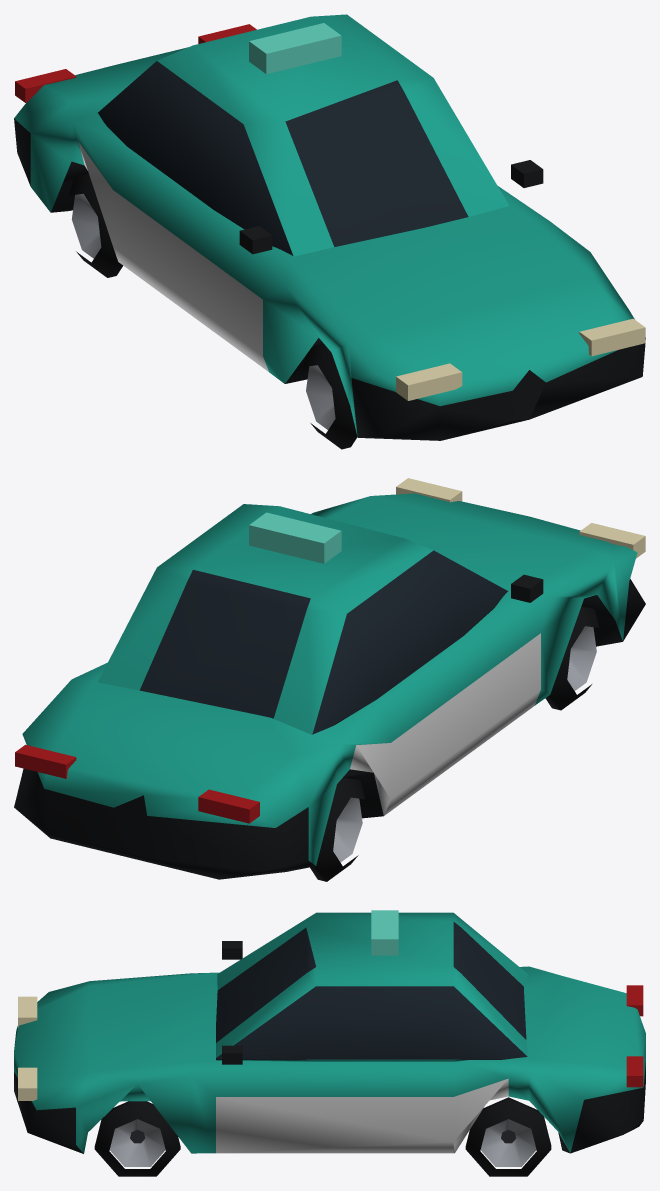
Rendered from mobile-low.glb.
The picture shows the model from 3 angles, top to bottom: view 1: azimuth 30°, elevation 25°; view 2: azimuth 150°, elevation 25°; view 3: azimuth 270°, elevation 25°; orthographic projection. The views are drawn at different scales.
Visible parts, largest first — view 1: body, roof_sign, tyre_fr, light_head_r, light_head_l, tyre_rr, rim_fr, rim_rr, light_brake_r; view 2: body, roof_sign, tyre_rr, tyre_fr, light_brake_r, light_brake_l, rim_fr, rim_rr, light_head_r, light_head_l; view 3: body, tyre_rl, tyre_fl, rim_fl, rim_rl, roof_sign, light_head_l, light_brake_l, light_head_r, light_brake_r.
Boxes of the visible parts, x1,y1,x2,y2 form: body: (14, 14, 645, 440); roof_sign: (249, 23, 341, 74); tyre_fr: (303, 345, 357, 449); light_head_r: (396, 363, 462, 400); light_head_l: (579, 318, 645, 356); tyre_rr: (69, 173, 122, 277); rim_fr: (306, 365, 335, 429); rim_rr: (71, 193, 101, 258); light_brake_r: (15, 69, 76, 102); body: (14, 493, 645, 879); roof_sign: (249, 512, 341, 563); tyre_rr: (310, 777, 365, 881); tyre_fr: (545, 606, 599, 710); light_brake_r: (198, 789, 259, 823); light_brake_l: (15, 744, 76, 778); rim_fr: (567, 626, 596, 690); rim_rr: (333, 797, 362, 862); light_head_r: (579, 523, 645, 558); light_head_l: (396, 478, 462, 502); body: (14, 912, 645, 1153); tyre_rl: (465, 1097, 551, 1176); tyre_fl: (94, 1101, 180, 1176); rim_fl: (109, 1119, 165, 1166); rim_rl: (480, 1119, 536, 1166); roof_sign: (371, 910, 398, 955); light_head_l: (18, 1067, 37, 1100); light_brake_l: (626, 1056, 643, 1087); light_head_r: (18, 996, 37, 1027); light_brake_r: (626, 985, 643, 1016).
Size of what is drawn, in the model's own units: 1.93 by 1.64 by 4.6.
